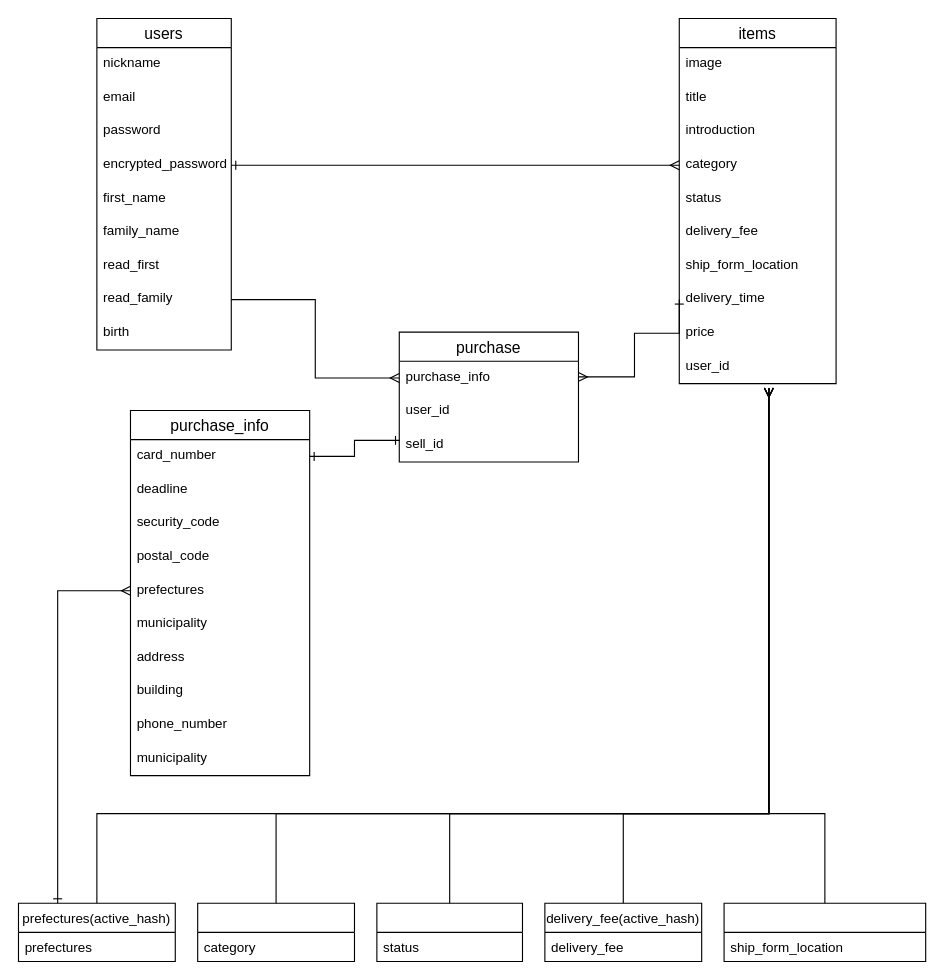
This 944x980 diagram has some shape labels left out. Here are the shapes that lost their labels. From the top down, the box of each, then its label:
(197, 902, 354, 962): category(active_hash)
(376, 902, 522, 962): status(active_hash)
(723, 902, 926, 962): ship_form_location(active_hash)
